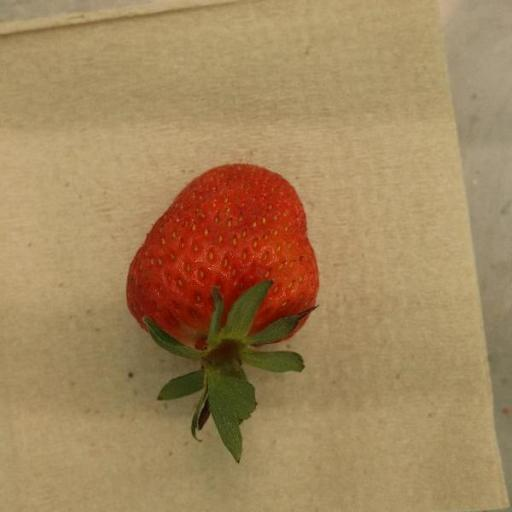Strawberry: (126, 165, 321, 465)
